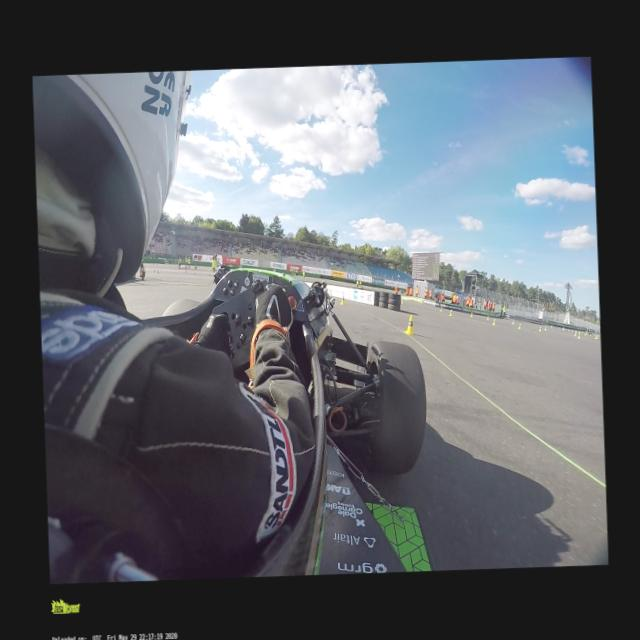blue_cone: (193, 270, 196, 274), (208, 272, 210, 276), (156, 268, 158, 272), (153, 268, 155, 272)
yellow_cone: (404, 315, 414, 335), (340, 293, 344, 305), (448, 308, 452, 316), (491, 318, 495, 324), (439, 306, 442, 312), (486, 314, 489, 320), (401, 298, 404, 304), (538, 326, 541, 332), (576, 334, 580, 338), (518, 322, 520, 329), (470, 312, 472, 318), (511, 320, 514, 324), (544, 325, 546, 331), (596, 336, 598, 340), (574, 332, 576, 336)
